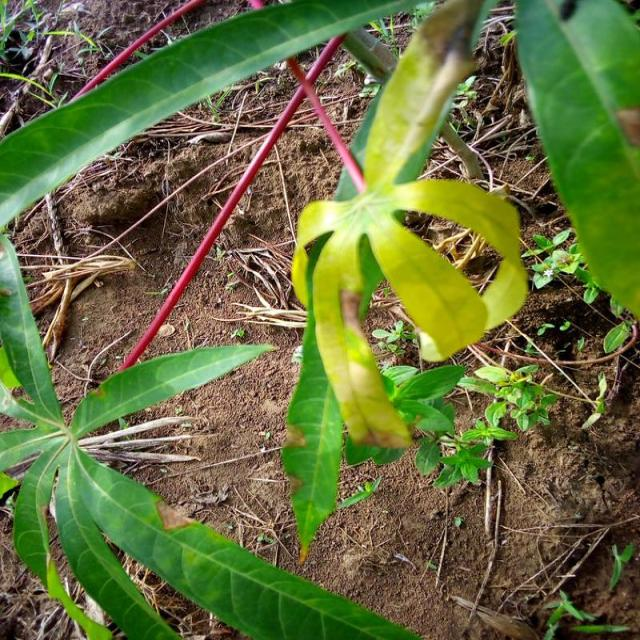cassava leaf: (280, 0, 528, 562), (0, 0, 421, 229), (512, 0, 639, 323)
